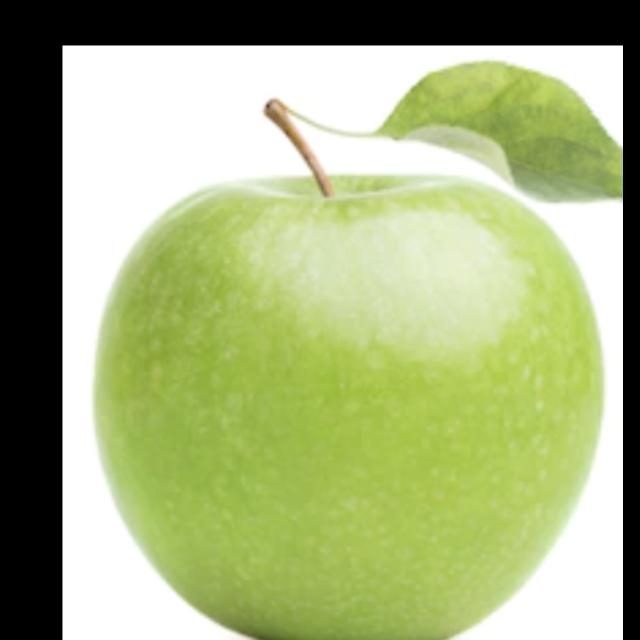Apel Segar: (74, 158, 612, 640)
